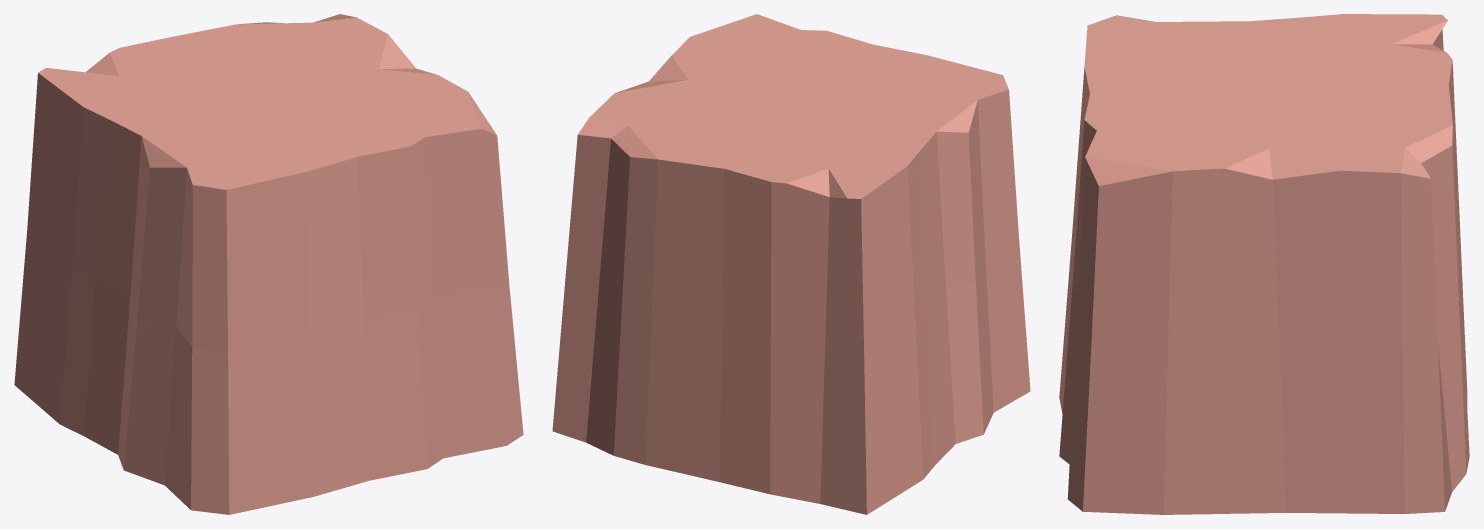
Rendered from SuperGrid_Cube4.fbx.
The picture shows the model from 3 angles, left to right: view 1: azimuth 30°, elevation 25°; view 2: azimuth 150°, elevation 25°; view 3: azimuth 270°, elevation 25°; orthographic projection. The views are drawn at different scales.
Visible parts, largest first — view 1: SuperGrid_Cube4; view 2: SuperGrid_Cube4; view 3: SuperGrid_Cube4.
Part boxes in pixels (x1,y1,x2,y2): SuperGrid_Cube4: (14, 14, 523, 514); SuperGrid_Cube4: (552, 14, 1030, 514); SuperGrid_Cube4: (1059, 14, 1469, 514).
Bounding box in the file's own units: 575 × 504 × 562.
